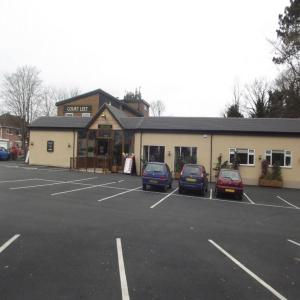Vehicle-registration-plate: (227, 190, 236, 193), (188, 179, 196, 182)
